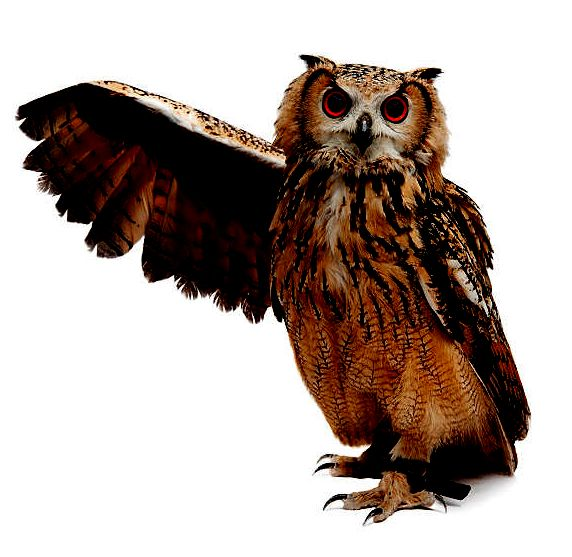Bird: (13, 37, 534, 534)
